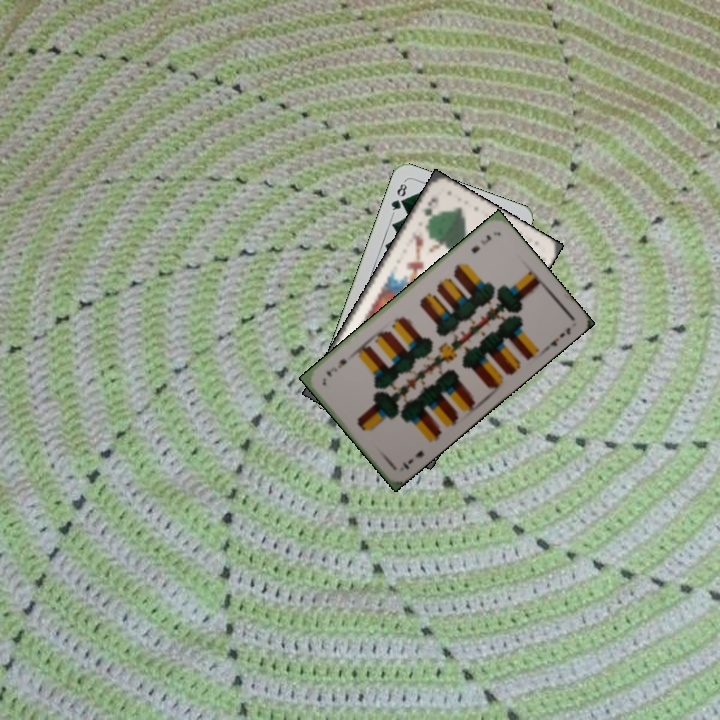E7: (467, 230, 494, 256), (398, 447, 426, 472)
G8: (387, 177, 410, 217)
GK: (419, 193, 439, 228)
